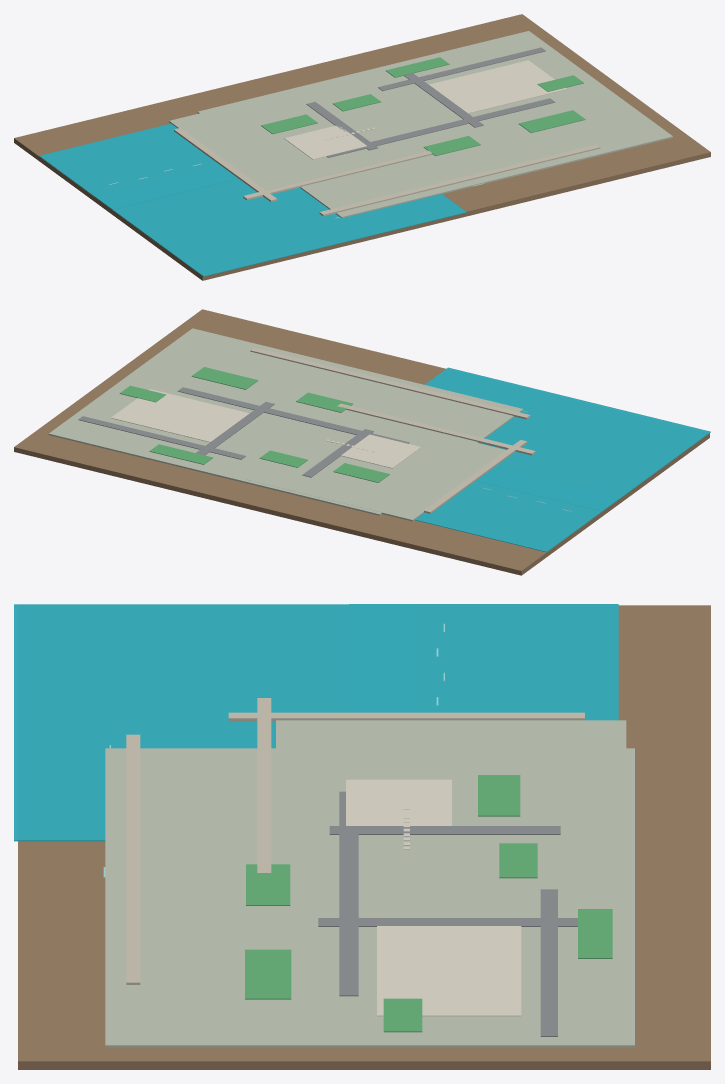
The model's file is voxel-shanghai-diorama-base.gltf.
3 renders of one model, top to bottom at view 1: azimuth 30°, elevation 25°; view 2: azimuth 150°, elevation 25°; view 3: azimuth 270°, elevation 25°, orthographic. The views are drawn at different scales.
Size of the model in its own units: 56 by 0.82 by 36.2.
